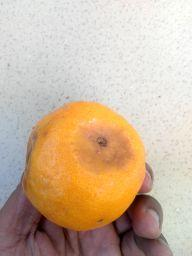Unripe: (21, 101, 147, 227)
